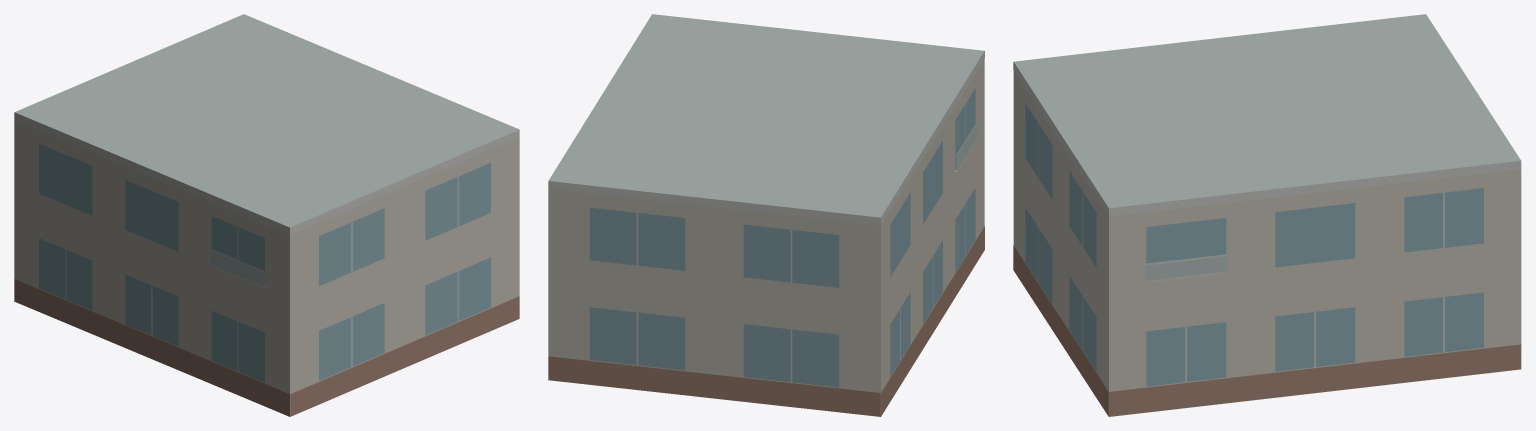
Rendered from survey-upis-32782199.glb.
The picture shows the model from 3 angles, left to right: view 1: azimuth 30°, elevation 25°; view 2: azimuth 150°, elevation 25°; view 3: azimuth 270°, elevation 25°; orthographic projection. The views are drawn at different scales.
Visible parts, largest first — view 1: survey-upis-32782199.tmp; view 2: survey-upis-32782199.tmp; view 3: survey-upis-32782199.tmp.
Part boxes in pixels (box(x1,y1,x2,y2)): survey-upis-32782199.tmp: box(14, 14, 519, 416); survey-upis-32782199.tmp: box(548, 14, 984, 416); survey-upis-32782199.tmp: box(1013, 14, 1521, 416).
Bounding box in the file's own units: 12.19 × 6.1 × 13.47.
